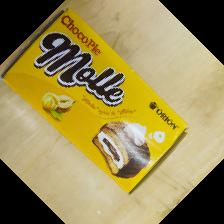Molle: (2, 8, 189, 194)
